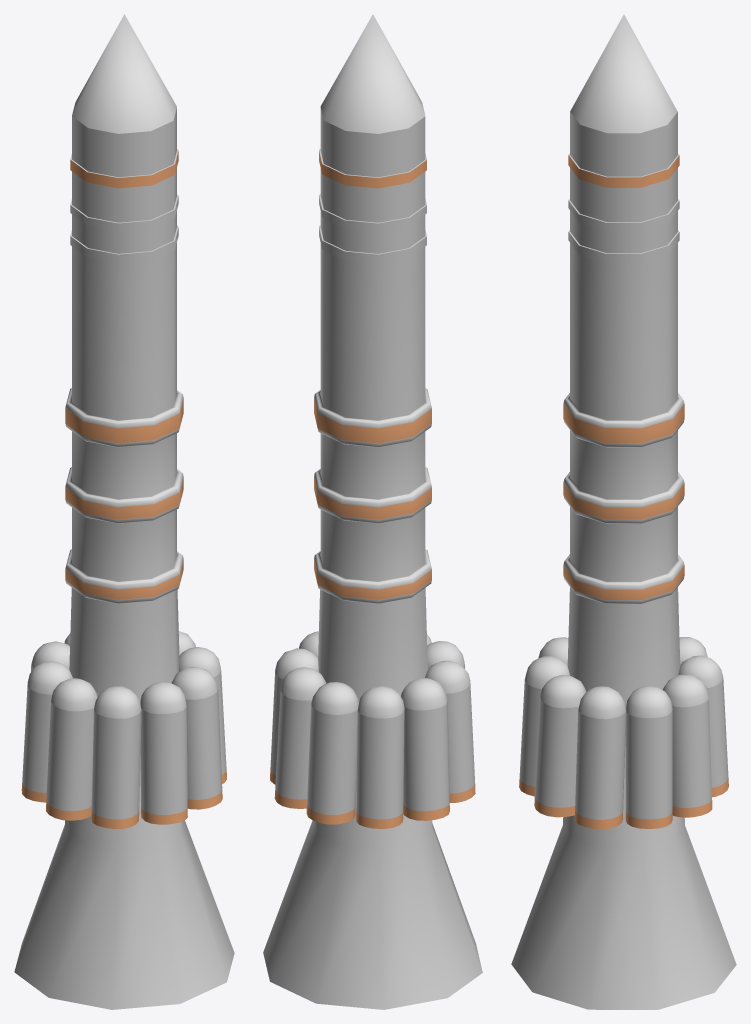
Rendered from rocket3.fbx.
The picture shows the model from 3 angles, left to right: view 1: azimuth 30°, elevation 25°; view 2: azimuth 150°, elevation 25°; view 3: azimuth 270°, elevation 25°; orthographic projection.
Visible parts, largest first — view 1: polySurface23; view 2: polySurface23; view 3: polySurface23.
Boxes of the visible parts, <box> form: polySurface23: <box>14,14,234,1009</box>; polySurface23: <box>263,14,482,1009</box>; polySurface23: <box>511,14,736,1009</box>.
Bounding box in the file's own units: 19.81 × 96.72 × 20.79.
